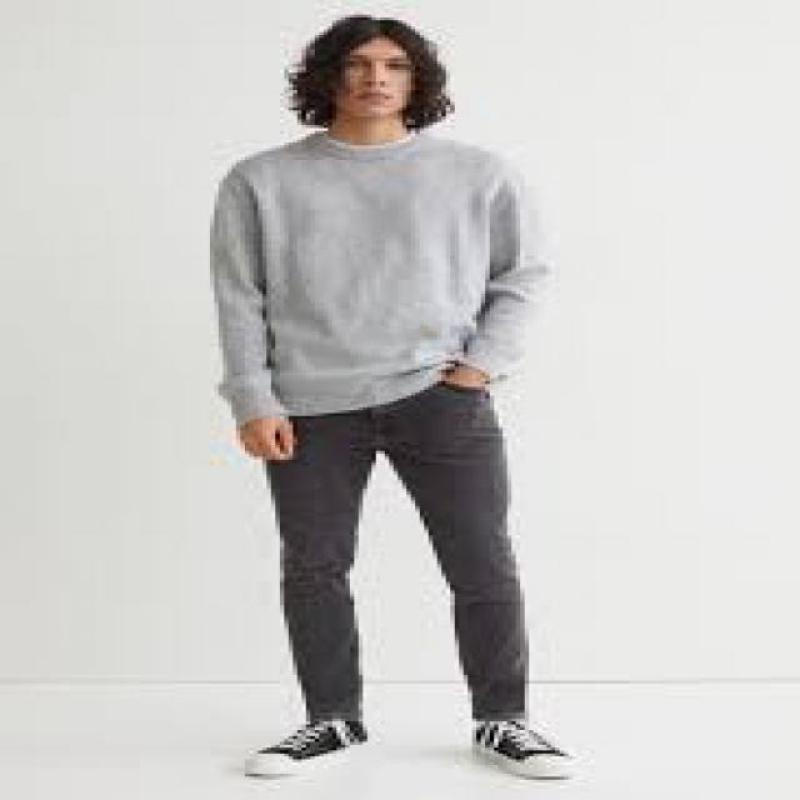sweater: (209, 130, 559, 431)
trousers: (261, 377, 530, 723)
